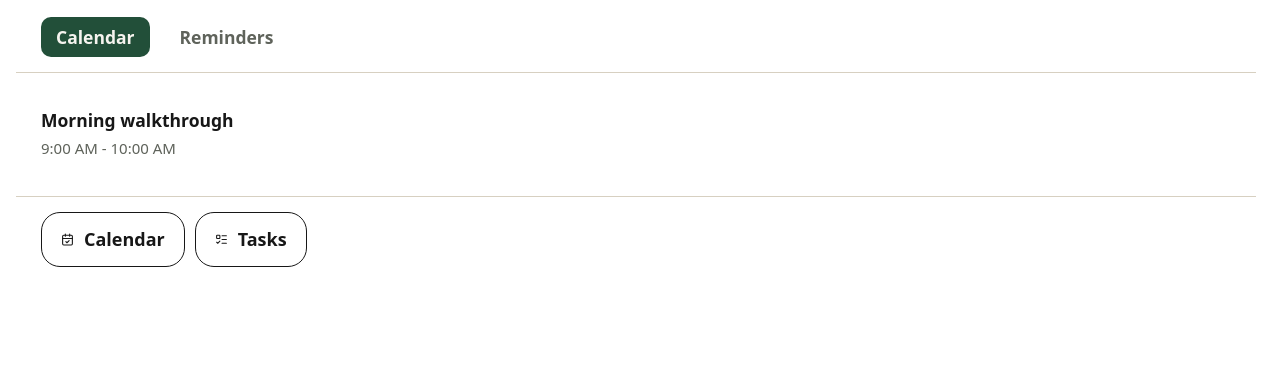
Test: TodaySignalsCard › switches tabs between calendar and reminders
Expected: the text "Morning walkthrough" is shown, [41,108,234,132]
Click the tab "Reminders": (226, 37) [164,17,288,57]
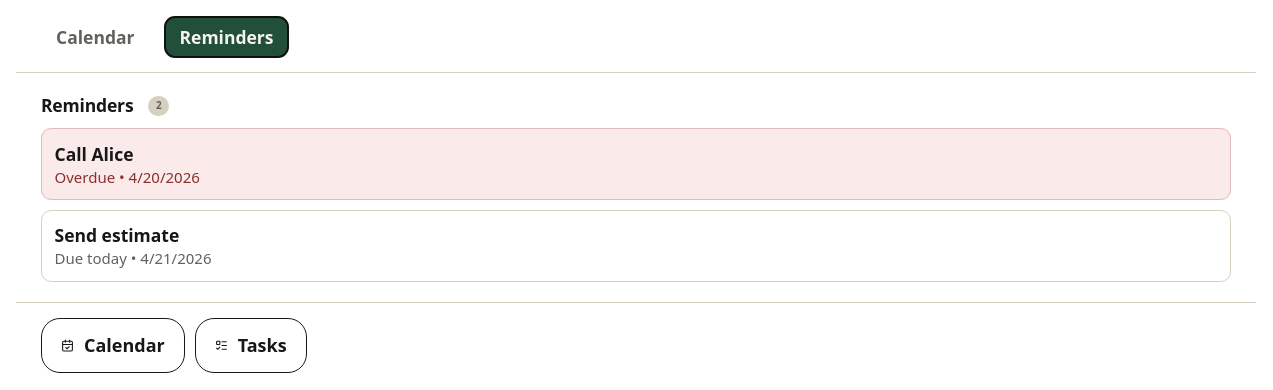
Expected: the text "Morning walkthrough" is gone
Expected: the text "Call Alice" is shown, [54,142,134,166]
